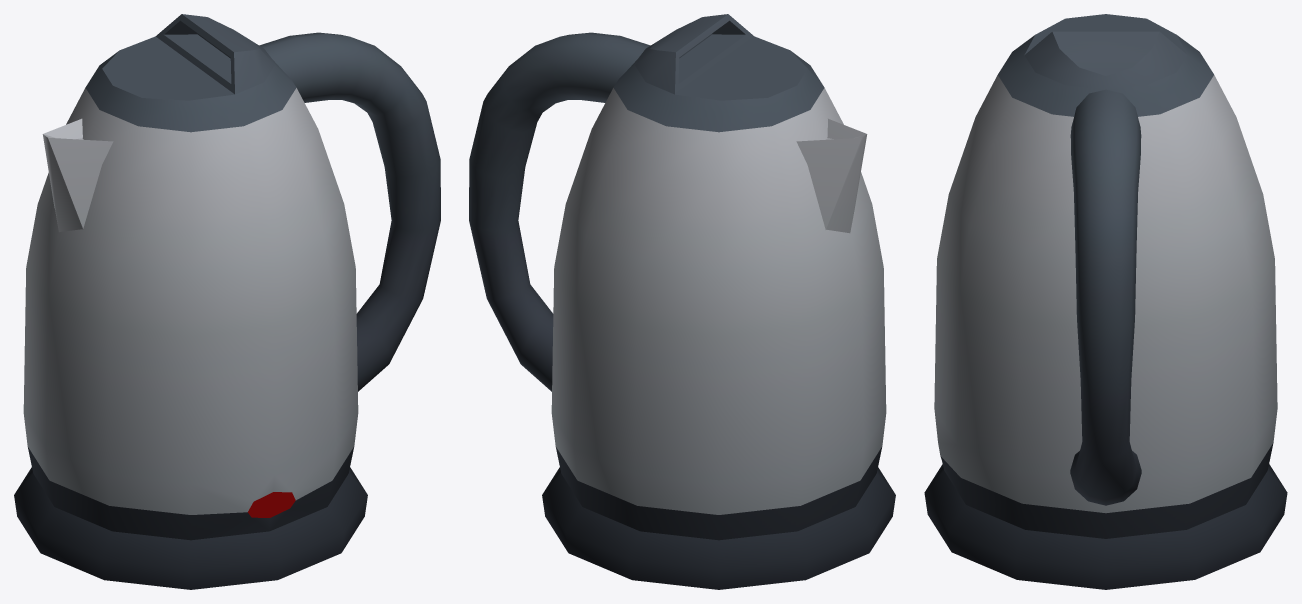
Rendered from Kettle_01.fbx.
3 views of the same model, side by side, from view 1: azimuth 30°, elevation 25°; view 2: azimuth 150°, elevation 25°; view 3: azimuth 270°, elevation 25° (orthographic). The views are drawn at different scales.
Parts seen in each view (by area): view 1: Kettle_01; view 2: Kettle_01; view 3: Kettle_01.
Part boxes in pixels (<box>): Kettle_01: <box>14,14,440,589</box>; Kettle_01: <box>469,14,895,589</box>; Kettle_01: <box>924,14,1287,589</box>.
Bounding box in the file's own units: 88.44 × 67.79 × 101.
